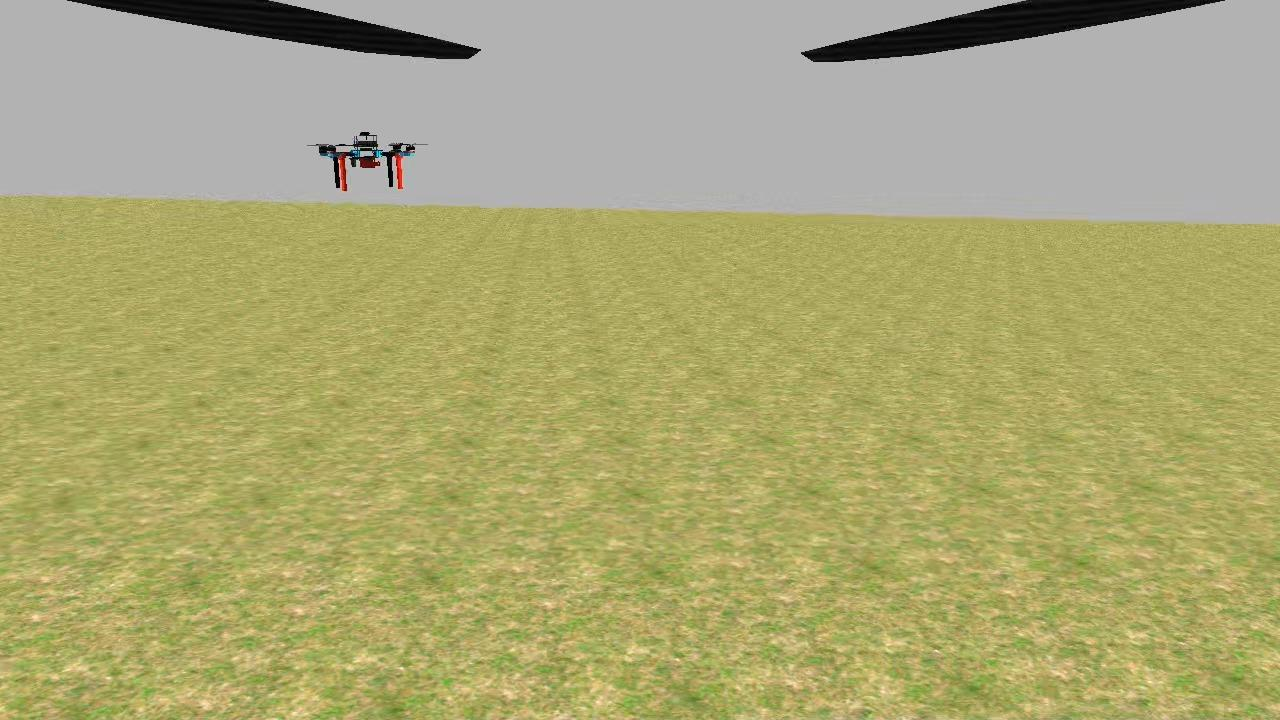UAV: (314, 128, 422, 198)
